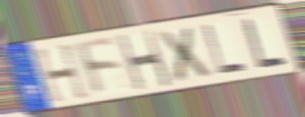F: (73, 36, 125, 99)
H: (32, 41, 92, 105), (116, 28, 174, 93)
L: (240, 17, 290, 72), (201, 23, 249, 76)
X: (154, 25, 215, 84)
